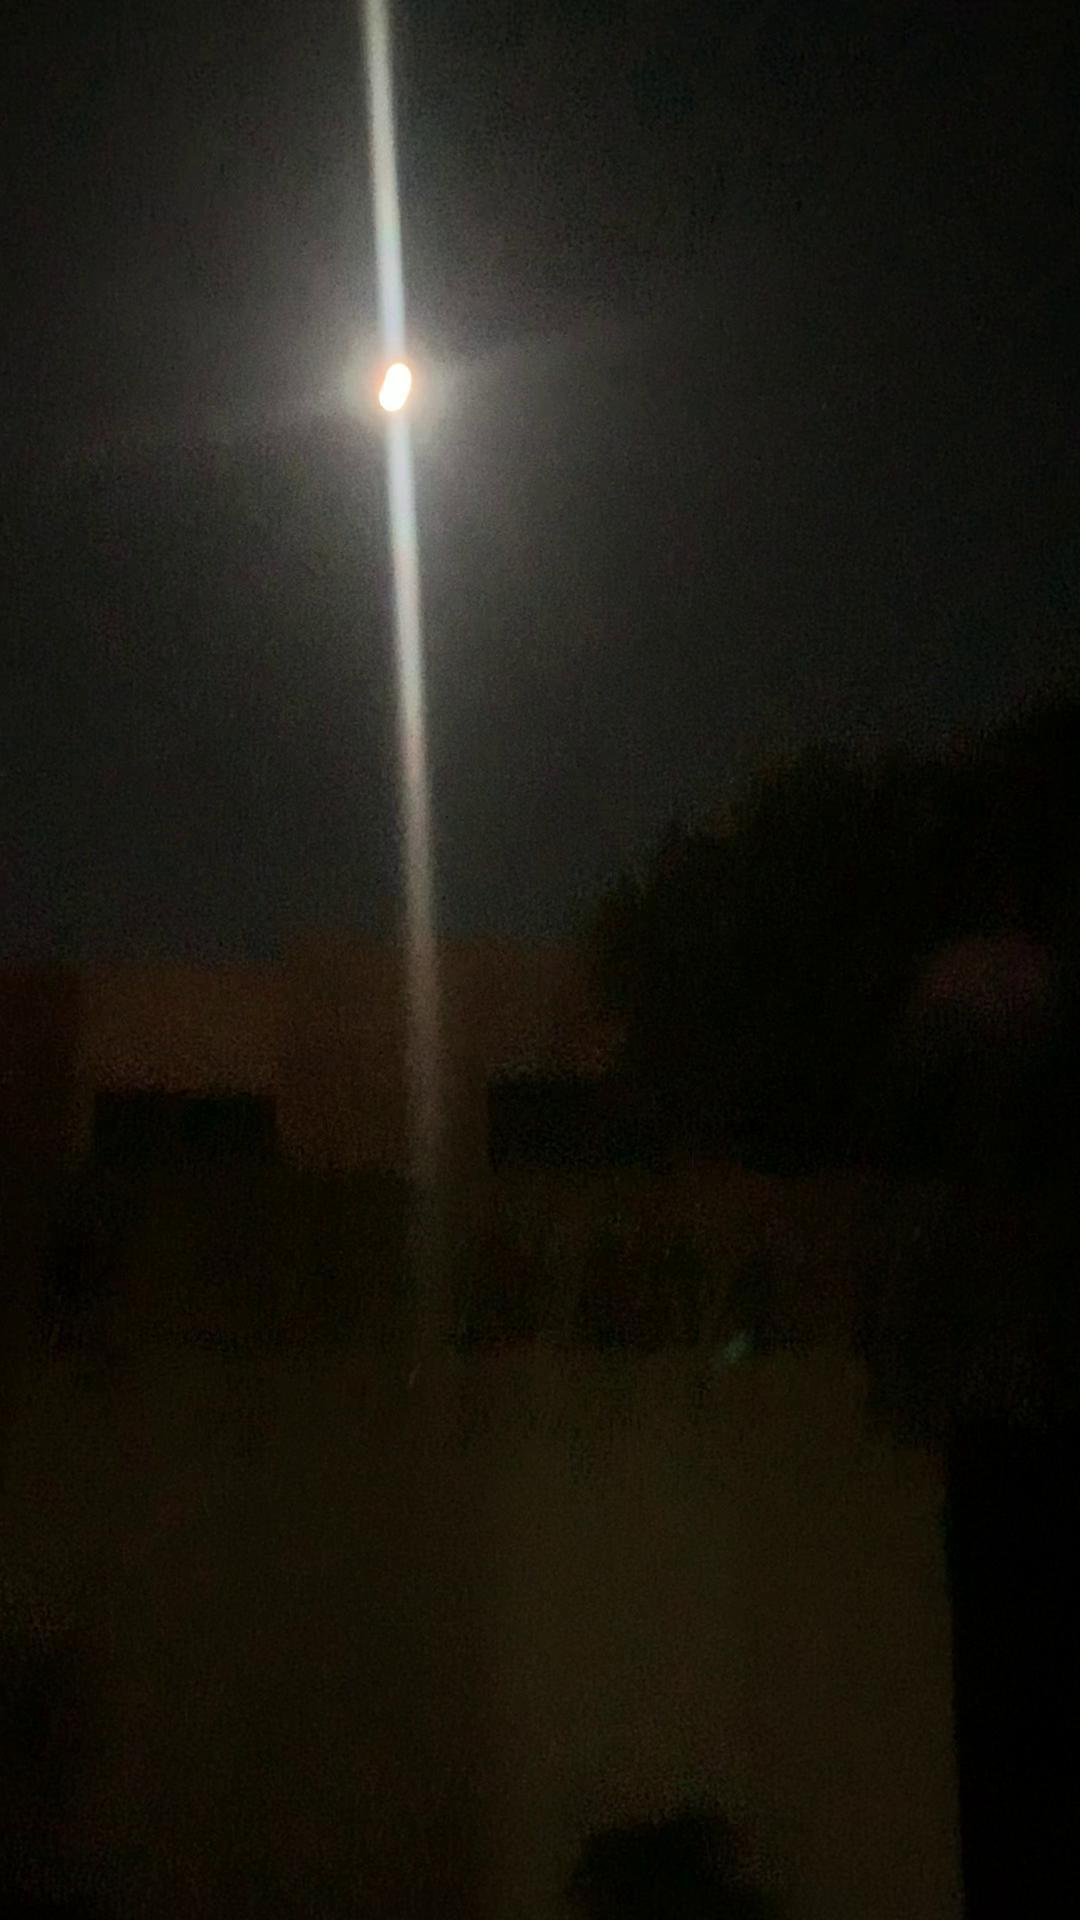moon: (349, 340, 455, 439)
